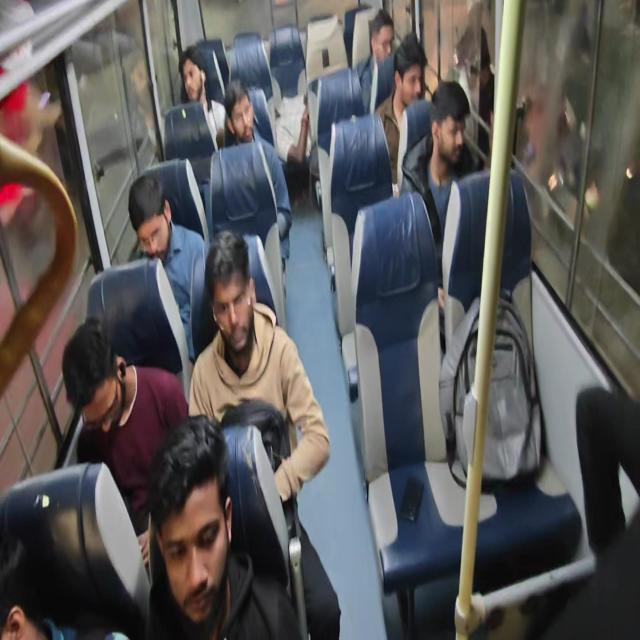person: (145, 427, 286, 640), (182, 234, 260, 392), (0, 489, 67, 640), (56, 317, 130, 432), (118, 170, 166, 285), (269, 72, 312, 176), (388, 35, 426, 125), (428, 88, 468, 172), (173, 49, 216, 118), (213, 78, 250, 134), (368, 16, 401, 67)
